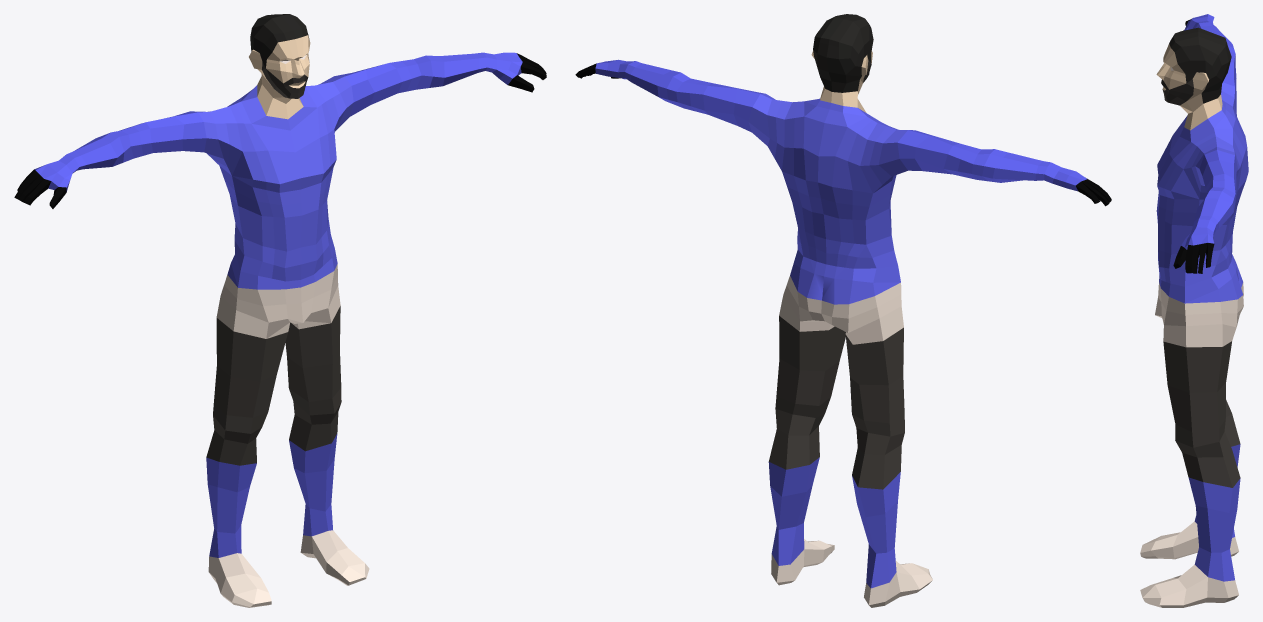
File: guy.fbx
3 views of the same model, side by side, from view 1: azimuth 30°, elevation 25°; view 2: azimuth 150°, elevation 25°; view 3: azimuth 270°, elevation 25° (orthographic). The views are drawn at different scales.
Visible parts, largest first — view 1: Male; view 2: Male; view 3: Male.
Boxes of the visible parts, x1,y1,x2,y2 form: Male: (14, 14, 546, 607); Male: (575, 14, 1111, 607); Male: (1140, 14, 1248, 607).
Size of the model in its own units: 201 by 36.65 by 203.
Materials: 1 (1 with a texture image).
